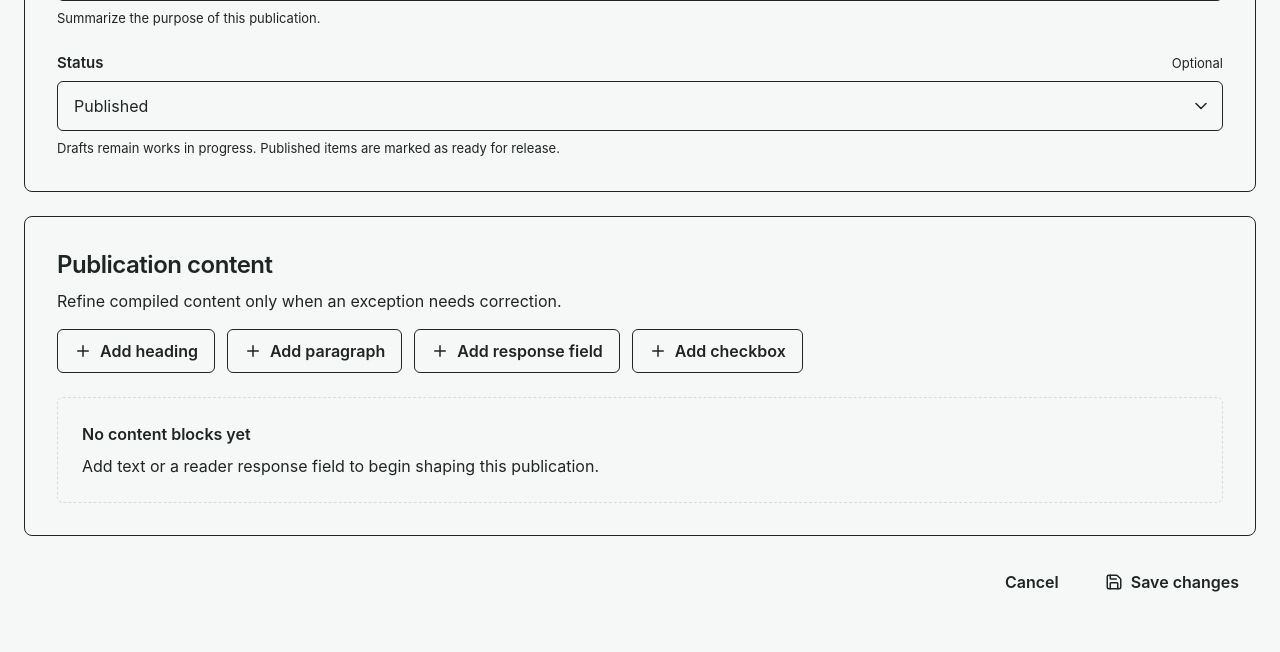
it: PublicationEditorPage › returns a published publication to draft after editing
(page scrolled)
expect the dropdown labelled "Status" shows "Published": met, box [57,81,1223,131]
Click the button "Add paragraph": click(315, 350) [227,328,402,372]
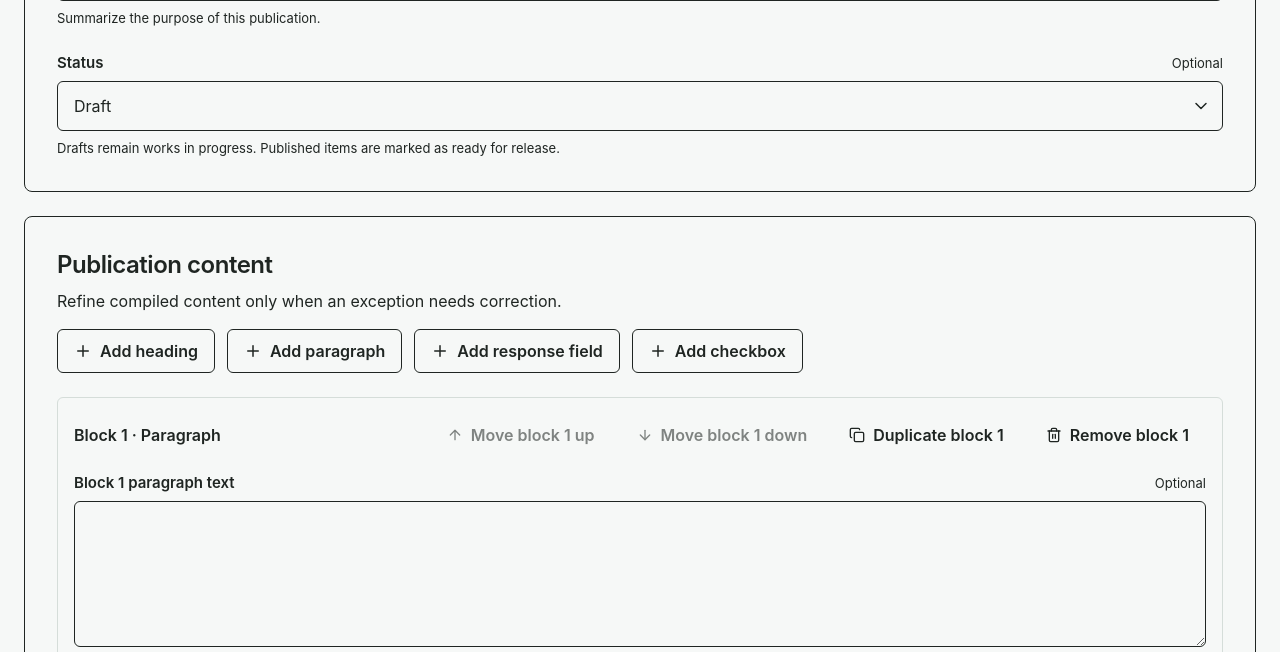
expect the dropdown labelled "Status" shows "Draft": met, box [57,81,1223,131]
